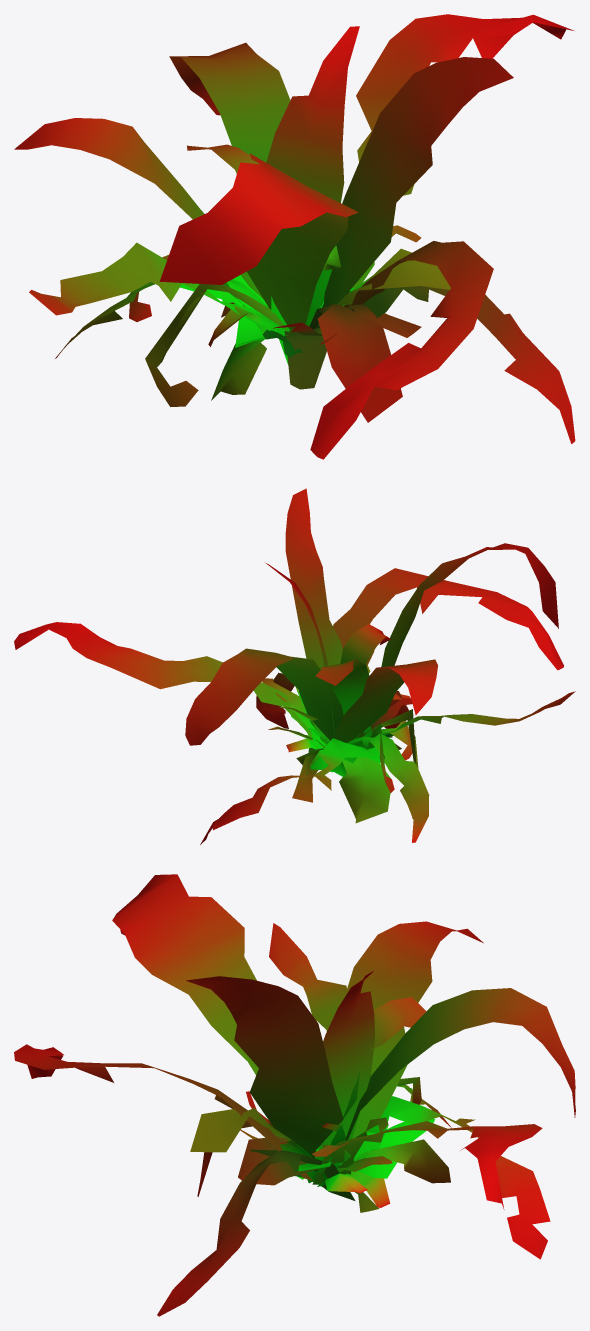
File: Fern_LOD1_Var2_sbslY.fbx
3 views of the same model, one above another, from view 1: azimuth 30°, elevation 25°; view 2: azimuth 150°, elevation 25°; view 3: azimuth 270°, elevation 25° (orthographic). The views are drawn at different scales.
Visible parts, largest first — view 1: _7cae_Var2_LOD1; view 2: _7cae_Var2_LOD1; view 3: _7cae_Var2_LOD1.
Part boxes in pixels (x1,y1,x2,y2): _7cae_Var2_LOD1: [14, 14, 575, 459]; _7cae_Var2_LOD1: [14, 488, 575, 844]; _7cae_Var2_LOD1: [14, 874, 575, 1316].
Bounding box in the file's own units: 164 × 86.26 × 137.
